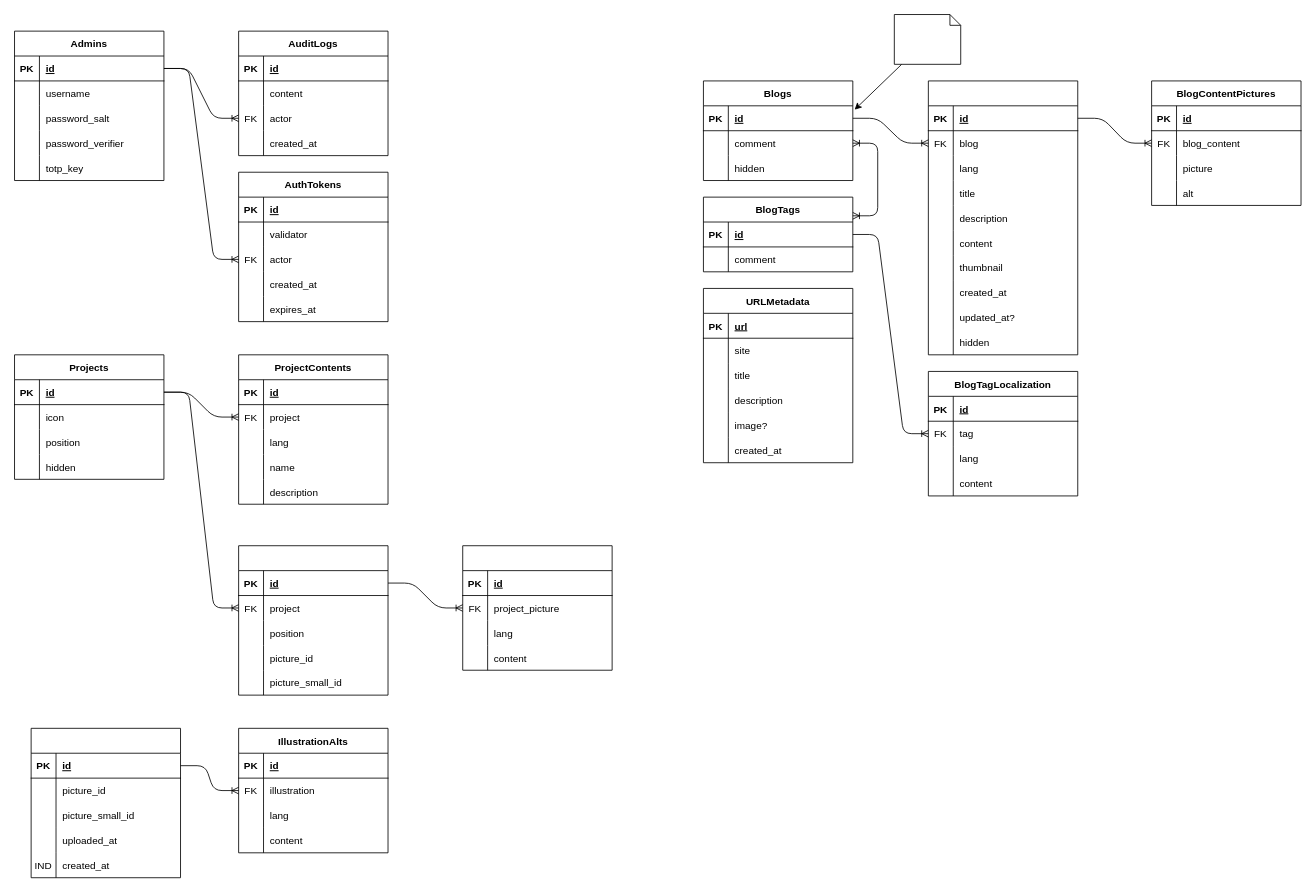
This 1316x892 diagram has some shape labels left out. The box of each missing label's shape, as (x1, y1, x2, y2) in pixels:
BlogContents: (928, 80, 1078, 355)
Illustrations: (30, 727, 181, 878)
ProjectPictureAlts: (462, 545, 612, 670)
ProjectPictures: (238, 545, 388, 695)
SERIAL: (893, 14, 961, 64)
